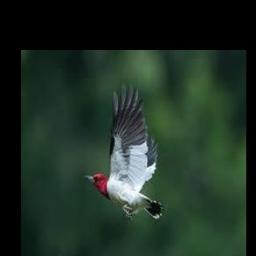Woodpecker: (84, 83, 166, 219)
